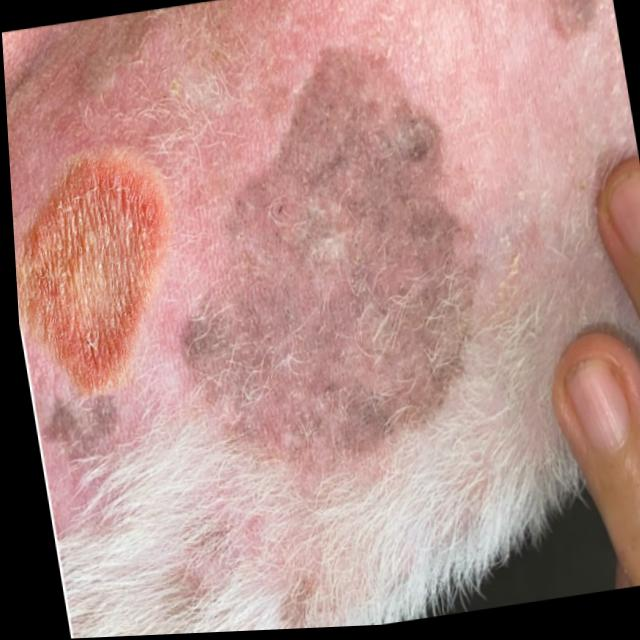ringworm: (7, 136, 185, 404)
